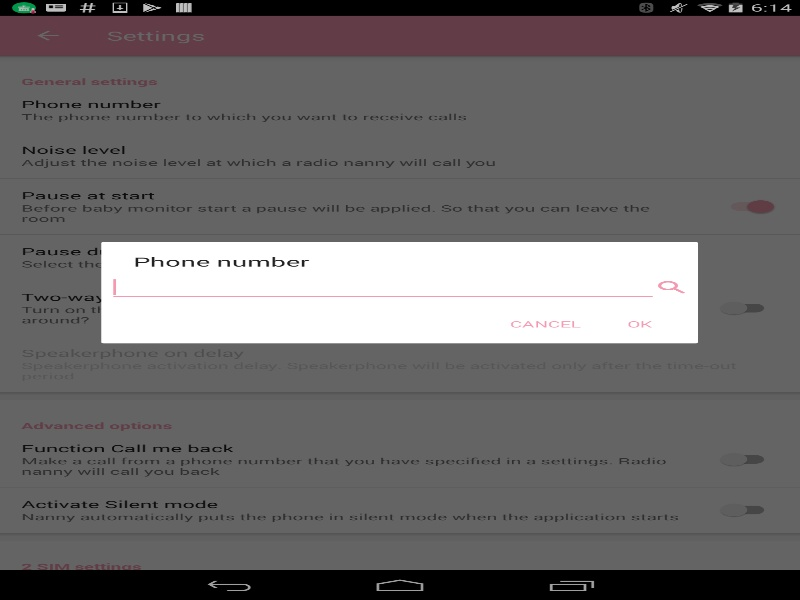Button: (494, 307, 596, 340), (596, 307, 682, 340), (658, 280, 684, 293)
Input: (108, 273, 658, 301)
